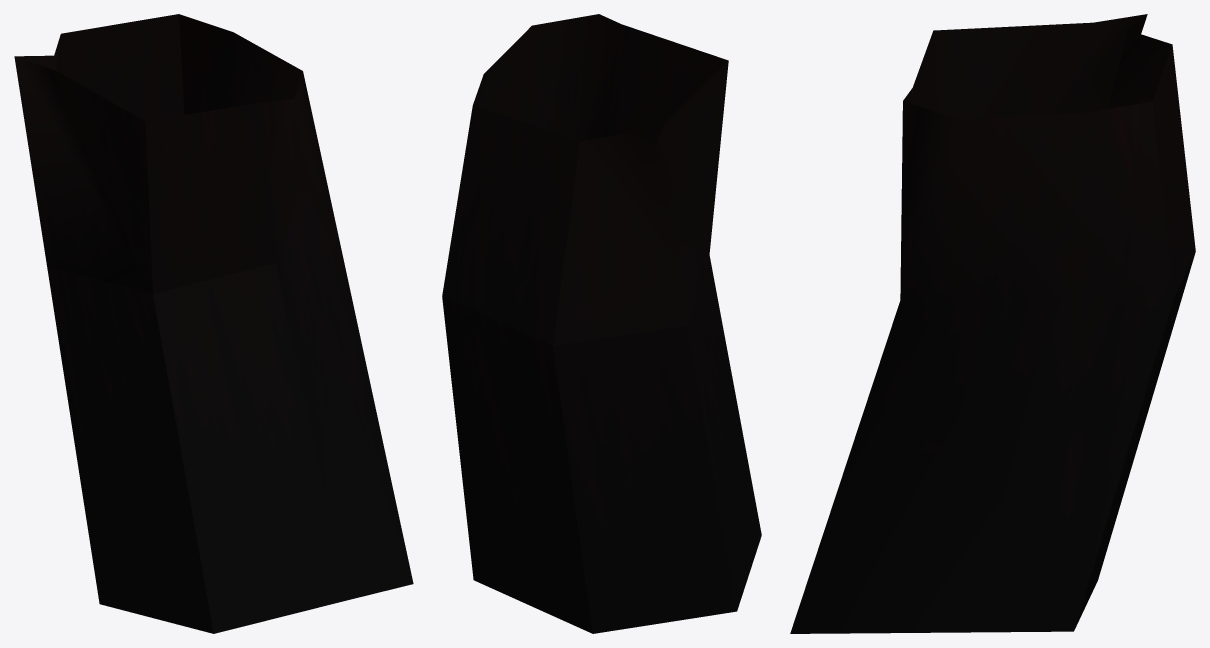
The model's file is jungle_palm_b3_low.glb.
3 views of the same model, side by side, from view 1: azimuth 30°, elevation 25°; view 2: azimuth 150°, elevation 25°; view 3: azimuth 270°, elevation 25° (orthographic). The views are drawn at different scales.
Parts seen in each view (by area): view 1: jungle_palm_b3_low; view 2: jungle_palm_b3_low; view 3: jungle_palm_b3_low.
Part boxes in pixels (x1=…): jungle_palm_b3_low: x1=14, y1=14, x2=413, y2=633; jungle_palm_b3_low: x1=442, y1=14, x2=761, y2=633; jungle_palm_b3_low: x1=790, y1=14, x2=1195, y2=633.
Bounding box in the file's own units: 0.7314 × 1.47 × 1.03.
1 material, 1 textured.
